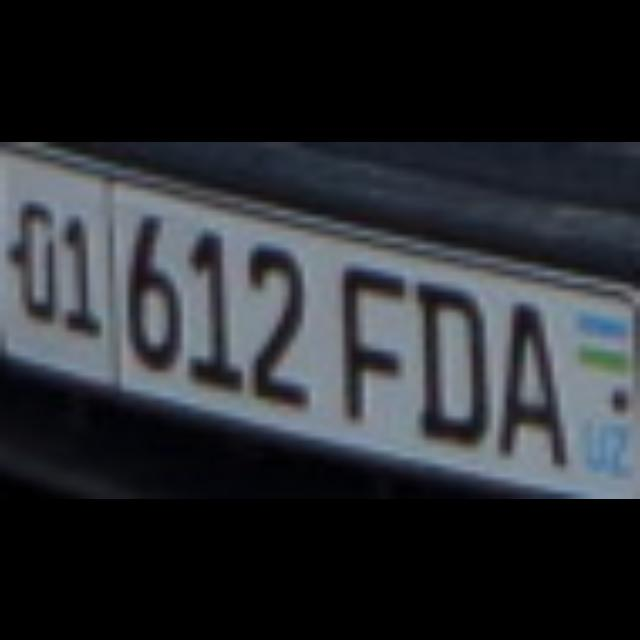0: (14, 196, 54, 316)
1: (182, 222, 236, 384), (54, 208, 94, 329)
2: (242, 235, 304, 397)
6: (121, 208, 175, 364)
A: (492, 296, 566, 458)
D: (404, 276, 478, 438)
F: (337, 255, 398, 417)
